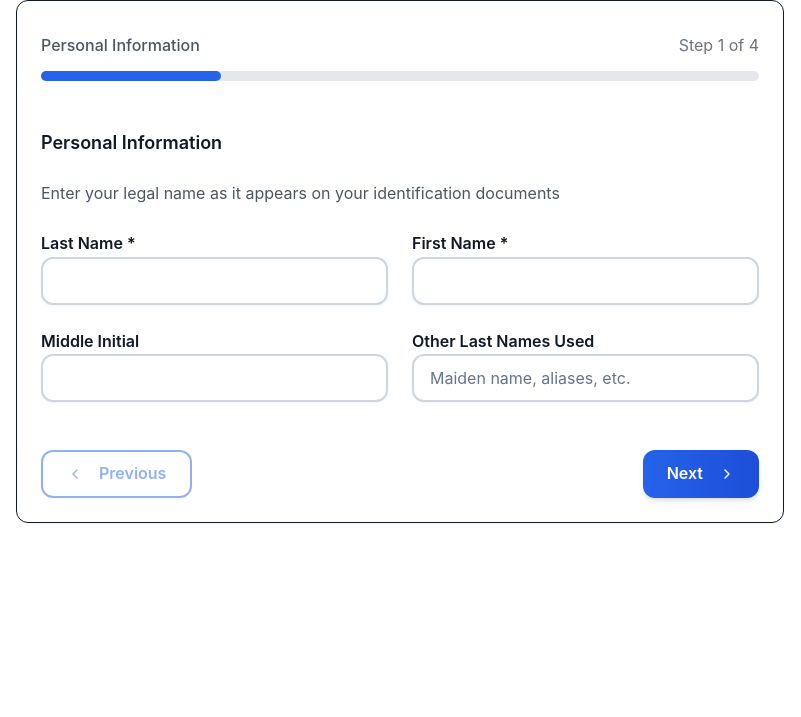
I9Section1FormClean › Step 2: Address › should validate address fields
In the field labelled "Last Name *": (214,281) 41,257 -> 388,305, type "Doe"
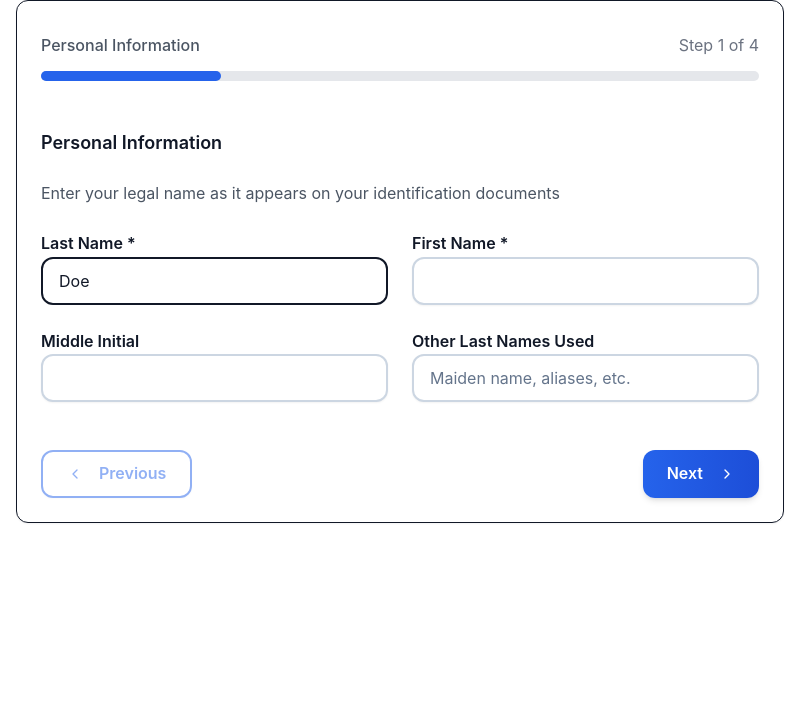
In the field labelled "First Name *": (586,281) 412,257 -> 759,305, type "Jane"
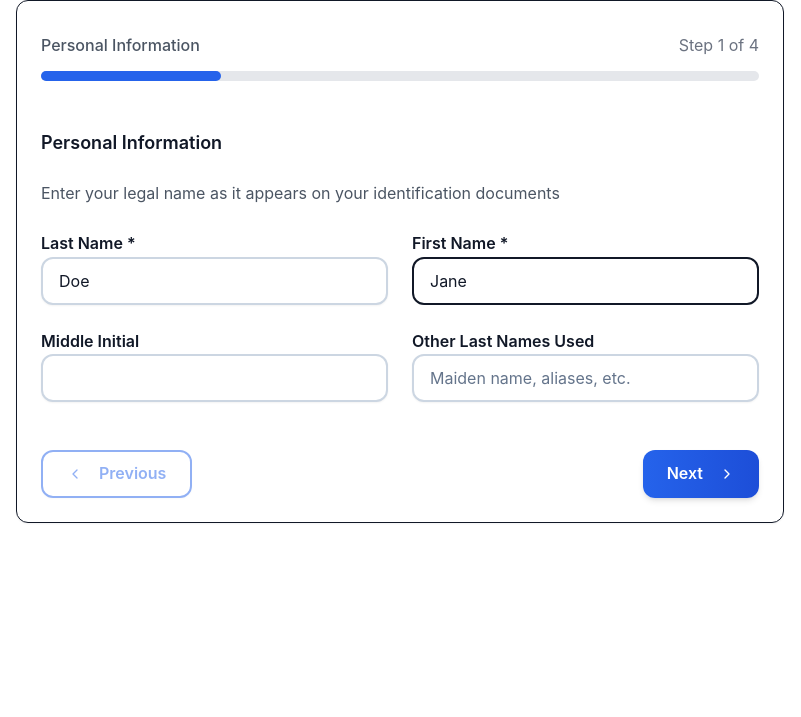
Click the button "Next": (701,474) 643,450 -> 759,498
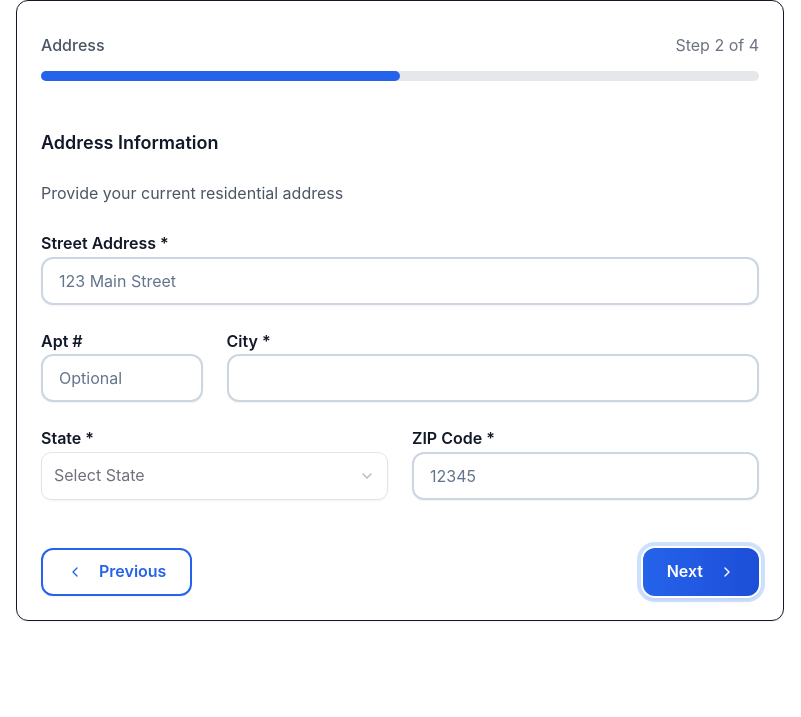
Click the button "Next": (701,572) 643,548 -> 759,596
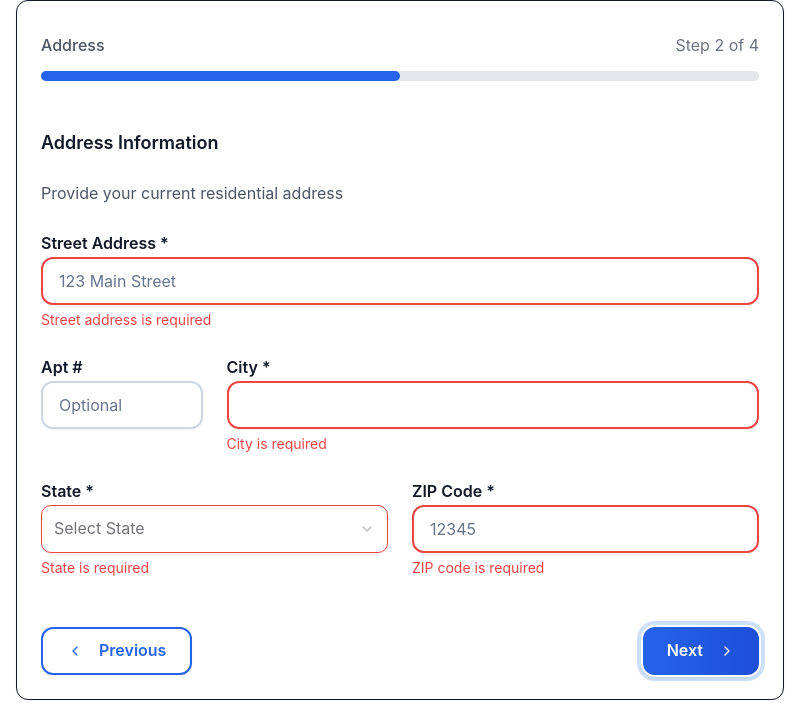
expect the text "Street address is required" is shown: met, box 41,311 -> 211,328
expect the text "City is required" is shown: met, box 226,435 -> 327,452
expect the text "State is required" is shown: met, box 41,558 -> 149,576
